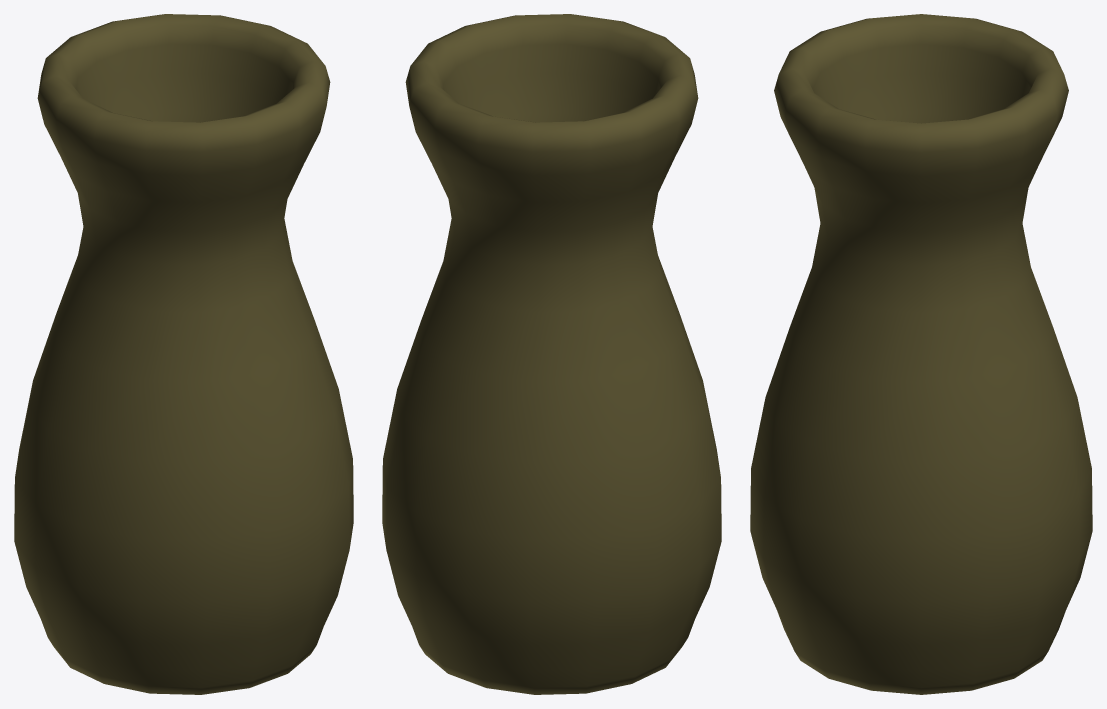
Rendered from Vase(b).fbx.
3 views of the same model, side by side, from view 1: azimuth 30°, elevation 25°; view 2: azimuth 150°, elevation 25°; view 3: azimuth 270°, elevation 25° (orthographic).
Parts seen in each view (by area): view 1: Cylinder; view 2: Cylinder; view 3: Cylinder.
Boxes of the visible parts, x1,y1,x2,y2 form: Cylinder: (14, 14, 353, 694); Cylinder: (382, 14, 721, 694); Cylinder: (750, 14, 1092, 694).
Size of the model in its own units: 30.66 by 56.73 by 30.66.
